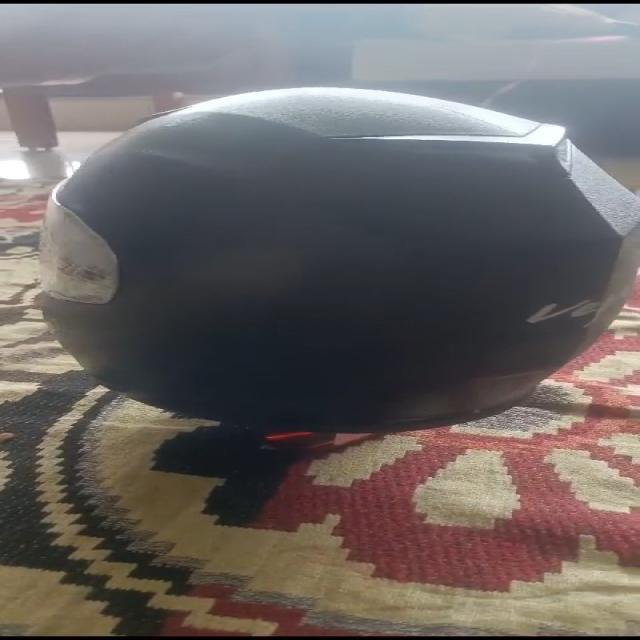Helmet: (39, 85, 640, 437)
